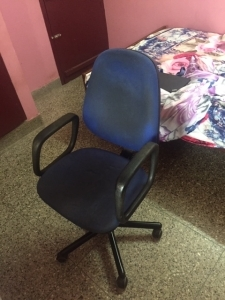chair: (32, 48, 163, 289)
